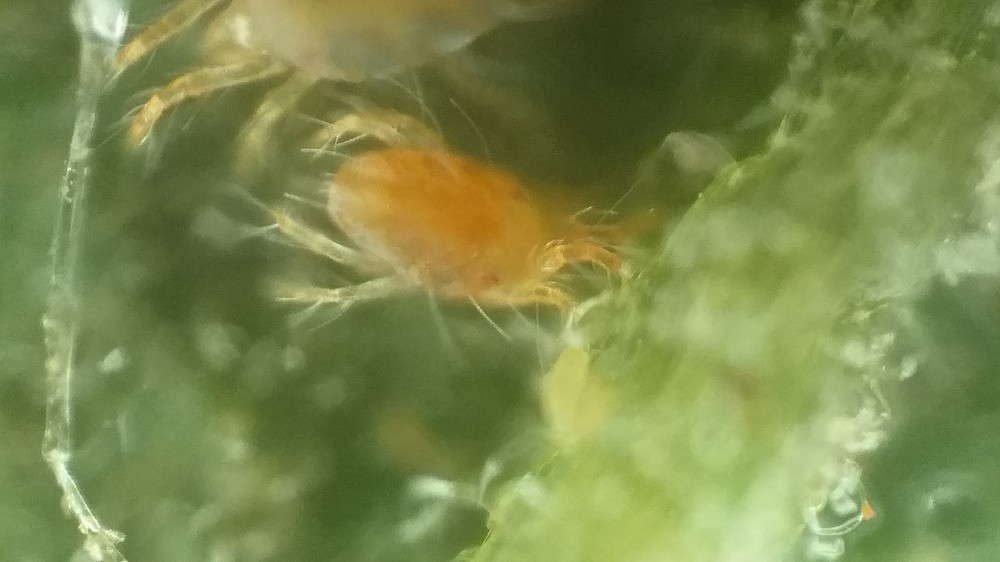Aracnido Rojo: (101, 3, 642, 170), (280, 118, 694, 333)
